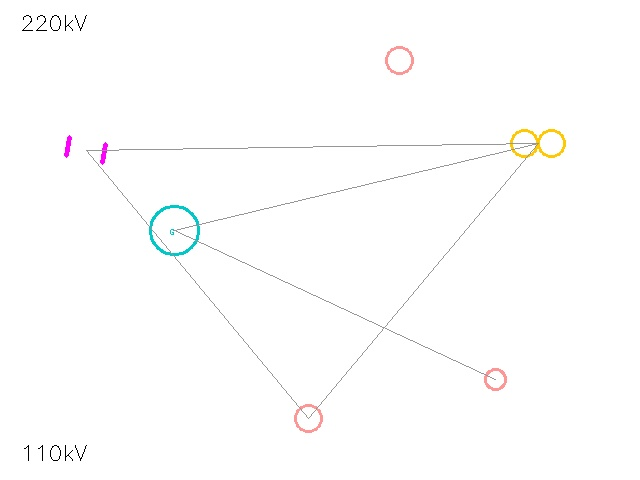capacitor: (56, 120, 116, 180)
current_transformer: (282, 392, 334, 444)
disconnect_switch: (475, 359, 515, 399)
generator: (150, 206, 198, 254)
surge_arrester: (373, 34, 425, 86)
transformer_2w: (505, 110, 571, 176)
